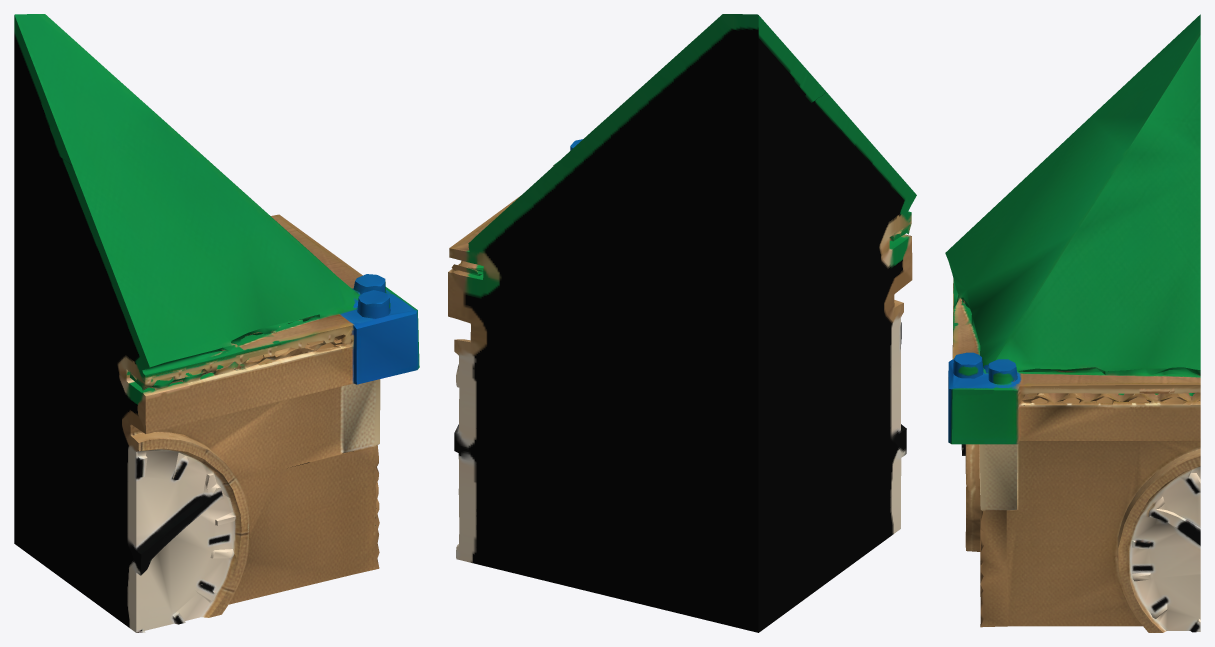
The model's file is 14-topper-front-right.fbx.
The picture shows the model from 3 angles, left to right: view 1: azimuth 30°, elevation 25°; view 2: azimuth 150°, elevation 25°; view 3: azimuth 270°, elevation 25°; orthographic projection. The views are drawn at different scales.
Visible parts, largest first — view 1: topper-front-right; view 2: topper-front-right; view 3: topper-front-right.
Boxes of the visible parts, bbox=[...] form: topper-front-right: bbox=[14, 14, 419, 632]; topper-front-right: bbox=[448, 14, 916, 632]; topper-front-right: bbox=[945, 14, 1200, 632].
Size of the model in its own units: 5112 by 9459 by 4390.
Materials: 1 (1 with a texture image).
